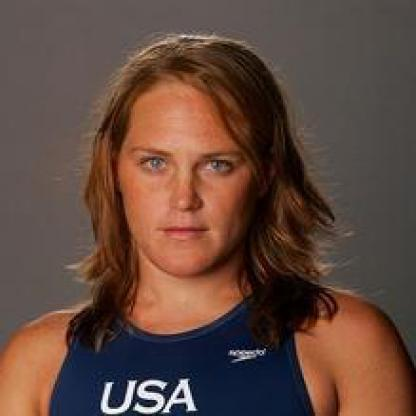long-hair: (67, 277, 330, 313)
